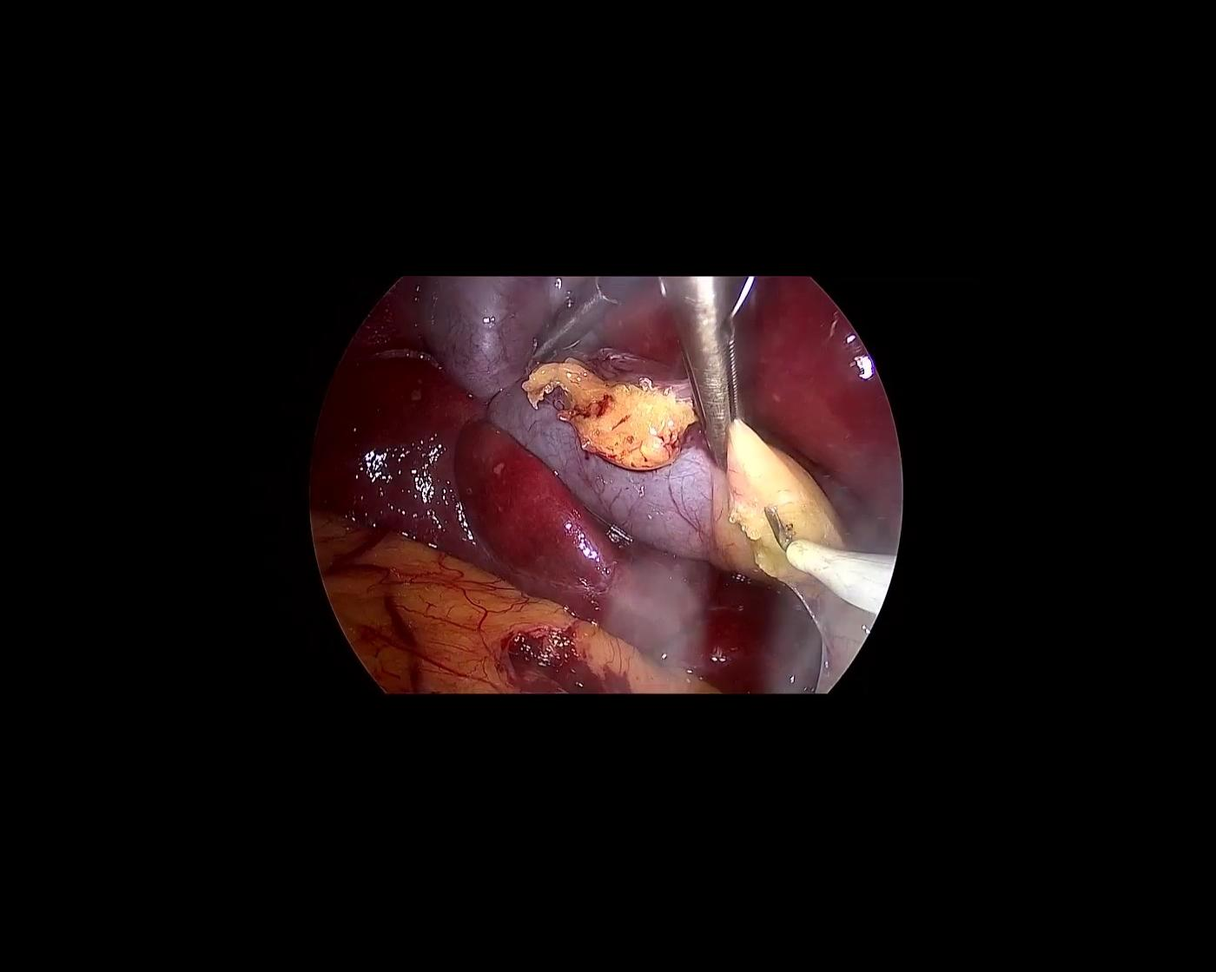Cautery: (735, 498, 902, 619)
Forceps: (508, 246, 659, 376)
Gallbladder: (375, 193, 856, 646)
Liver: (256, 282, 854, 819), (703, 245, 929, 582)
